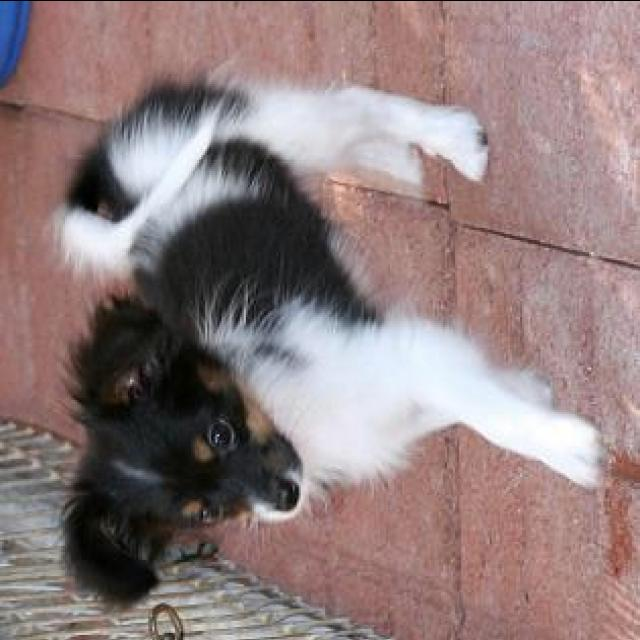papillon: (53, 59, 609, 614)
